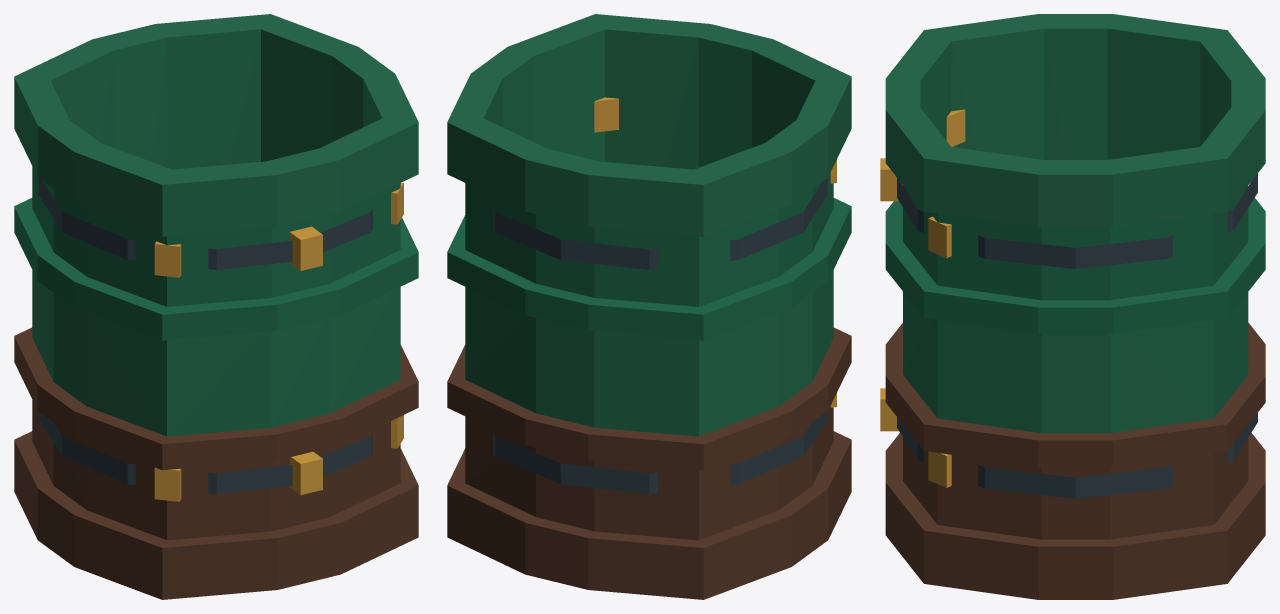
Rendered from open-barrel-mint.glb.
The picture shows the model from 3 angles, left to right: view 1: azimuth 30°, elevation 25°; view 2: azimuth 150°, elevation 25°; view 3: azimuth 270°, elevation 25°; orthographic projection. The views are drawn at different scales.
Parts seen in each view (by area): view 1: open-barrel-mint; view 2: open-barrel-mint; view 3: open-barrel-mint.
Part boxes in pixels (box(x1,y1,x2,y2)): open-barrel-mint: box(14, 14, 418, 599); open-barrel-mint: box(447, 14, 851, 599); open-barrel-mint: box(880, 14, 1265, 599).
Size of the model in its own units: 0.68 by 0.84 by 0.6899.
